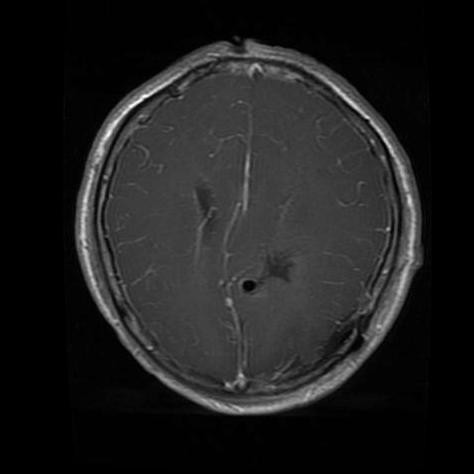Tumour-Glioma: (249, 244, 303, 293)
